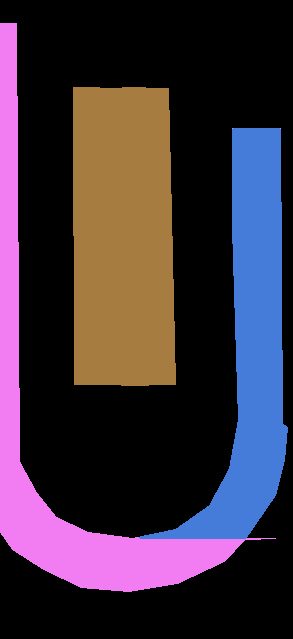parkingspot: (0, 23, 287, 591), (121, 87, 175, 385), (73, 87, 126, 384)
